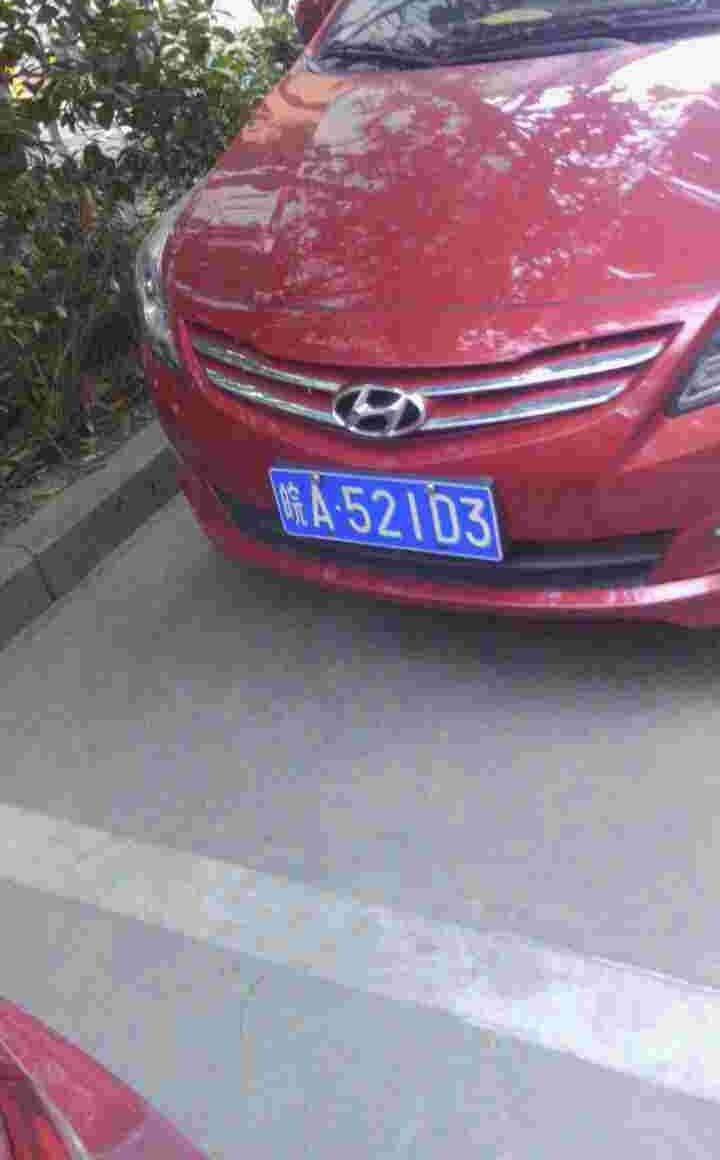license_plate: (269, 467, 505, 567)
